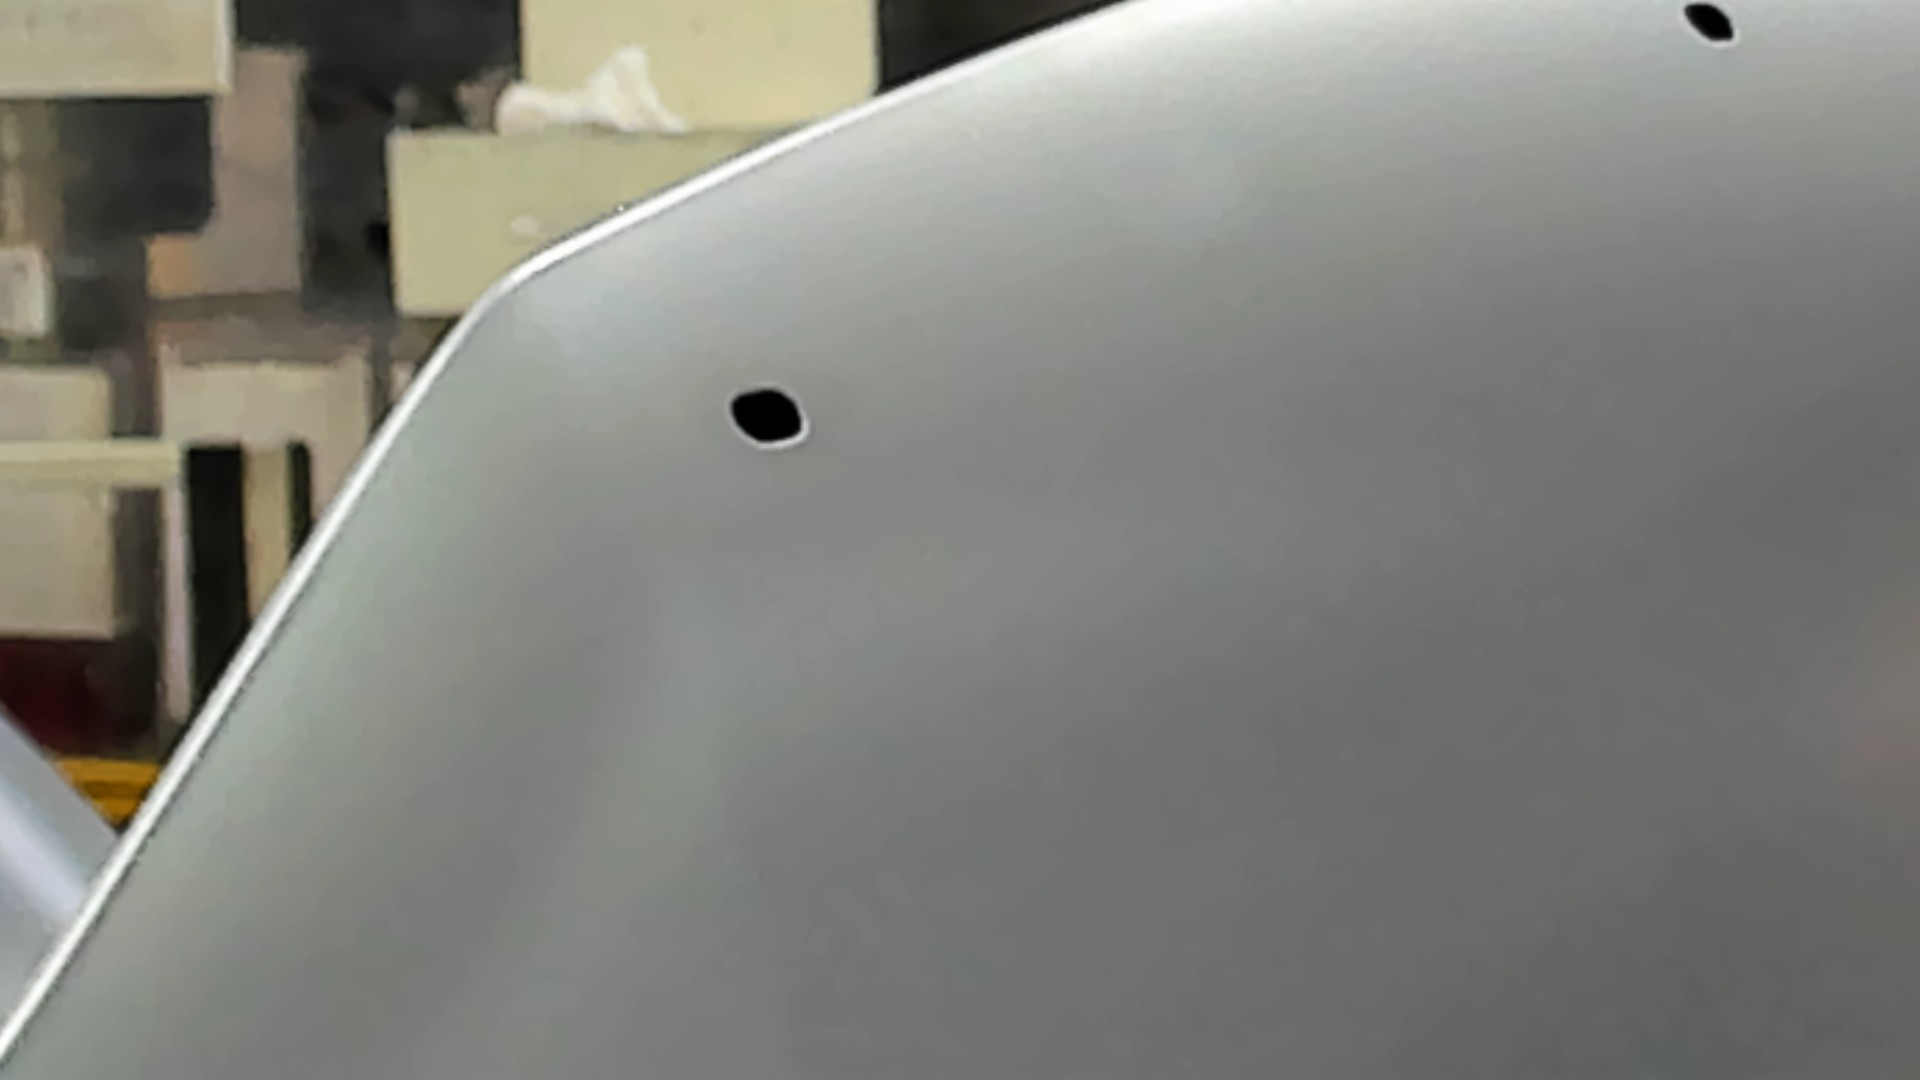amorfo: (727, 385, 814, 448), (1679, 3, 1743, 50)
